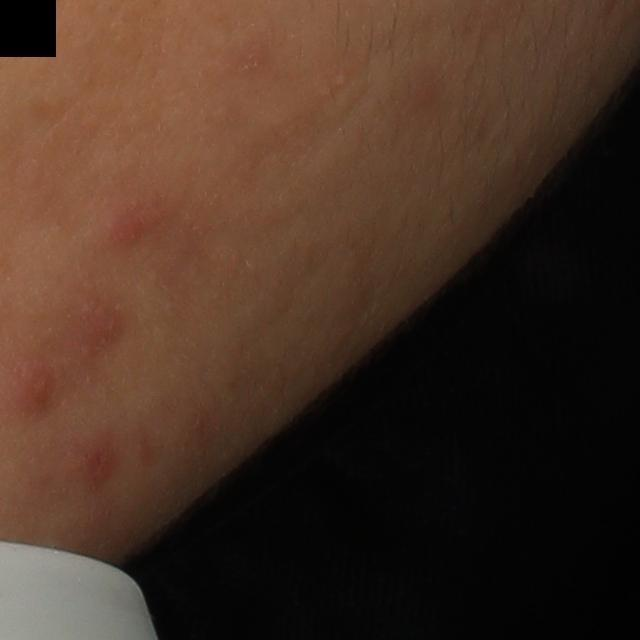papule: (74, 431, 123, 491), (100, 202, 160, 250), (77, 300, 124, 347)
